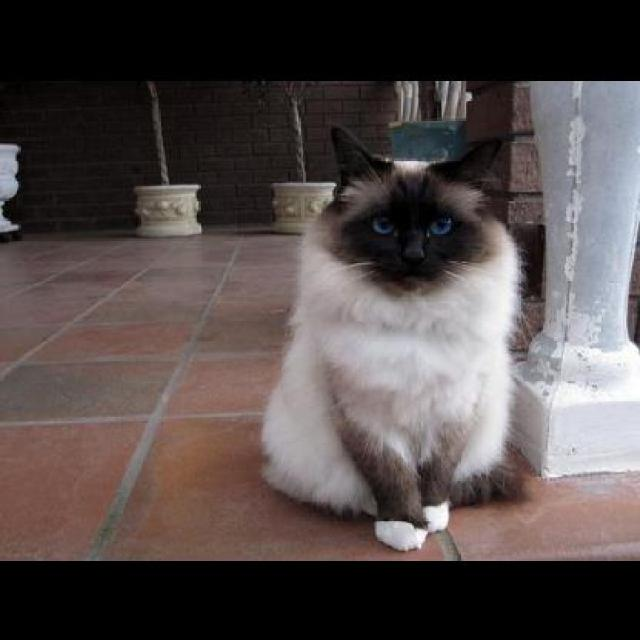unauthorized: (257, 122, 526, 552)
